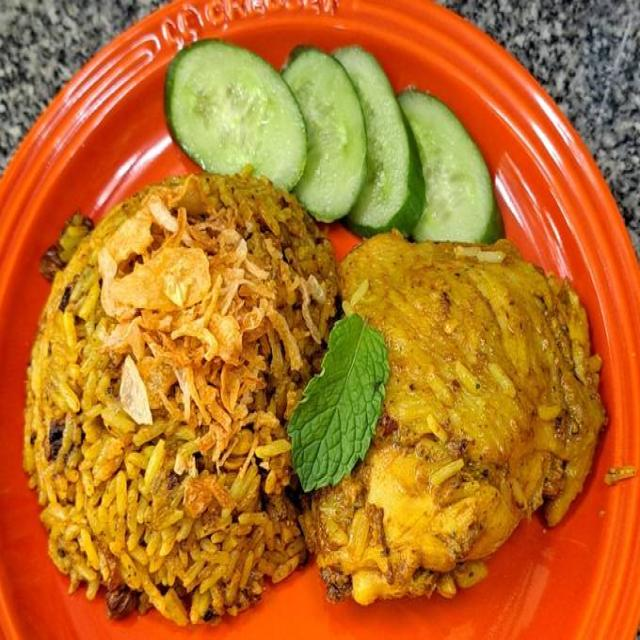Carbohydrate: (24, 172, 332, 614)
Kaow-Mokkai: (17, 10, 634, 640)
Protein: (314, 227, 608, 602)
Vegetable: (158, 40, 504, 248), (283, 312, 389, 499)
